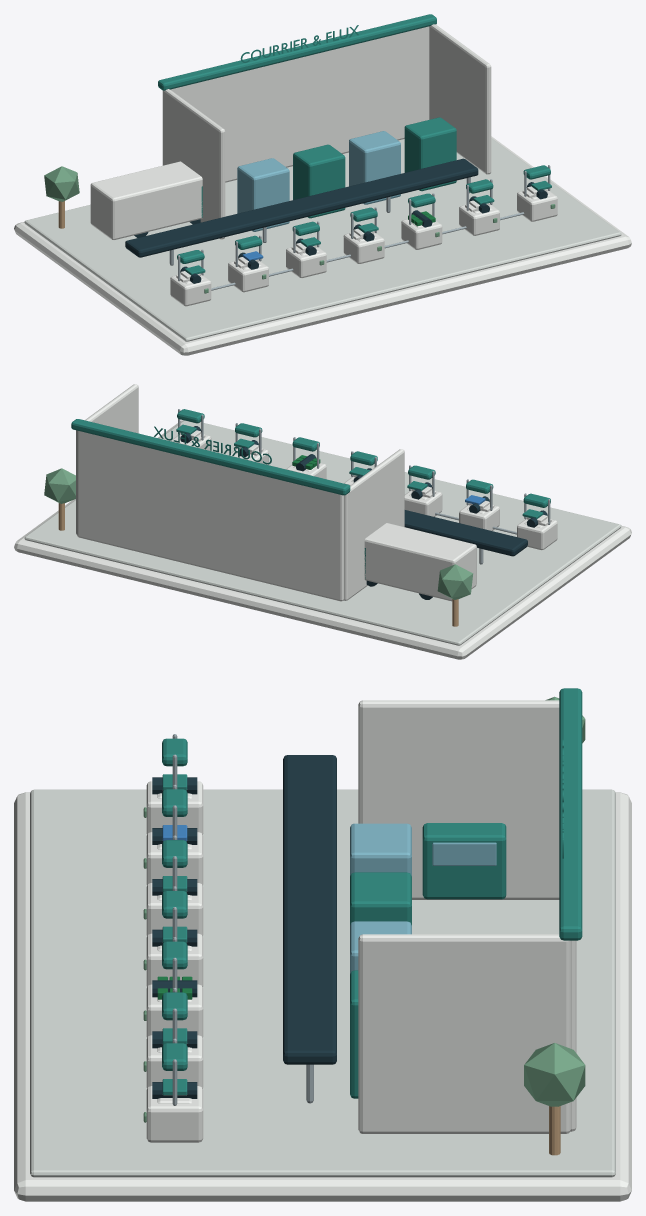
3 views of the same model, one above another, from view 1: azimuth 30°, elevation 25°; view 2: azimuth 150°, elevation 25°; view 3: azimuth 270°, elevation 25° (orthographic). The views are drawn at different scales.
Parts seen in each view (by area): view 1: Activity ground, COURRIER & FLUX back, Project island, Sorting belt, Delivery van, COURRIER & FLUX side.001, COURRIER & FLUX side, COURRIER & FLUX fascia, Sorting bins.003, Sorting bins.001, Sorting bins, Sorting bins.002 (+9 smaller); view 2: COURRIER & FLUX back, Activity ground, Project island, Delivery van, COURRIER & FLUX side, COURRIER & FLUX fascia, Sorting belt, COURRIER & FLUX side.001, Icosphere, Icosphere.001, Machine pedestal, Machine pedestal.001 (+2 smaller); view 3: Activity ground, COURRIER & FLUX side.001, COURRIER & FLUX side, Project island, Sorting belt, COURRIER & FLUX fascia, Van cab, Icosphere.001, Sorting bins, Sorting bins.001, Machine pedestal.006, Van windscreen (+9 smaller).
Part boxes in pixels (x1,y1,x2,y2): Activity ground: [24, 138, 621, 341]; COURRIER & FLUX back: [170, 26, 429, 182]; Project island: [14, 136, 631, 355]; Sorting belt: [125, 158, 478, 257]; Delivery van: [90, 161, 202, 240]; COURRIER & FLUX side.001: [429, 24, 491, 174]; COURRIER & FLUX side: [162, 89, 225, 239]; COURRIER & FLUX fascia: [158, 14, 436, 90]; Sorting bins.003: [404, 117, 456, 191]; Sorting bins.001: [293, 144, 345, 218]; Sorting bins: [237, 158, 289, 231]; Sorting bins.002: [349, 131, 400, 204]; COURRIER & FLUX back: [77, 430, 343, 601]; Activity ground: [24, 420, 621, 645]; Project island: [14, 420, 631, 659]; Delivery van: [364, 523, 476, 601]; COURRIER & FLUX side: [343, 449, 404, 600]; COURRIER & FLUX fascia: [71, 419, 350, 495]; Sorting belt: [404, 510, 527, 556]; COURRIER & FLUX side.001: [76, 384, 138, 534]; Icosphere: [437, 564, 473, 599]; Icosphere.001: [44, 468, 75, 503]; Machine pedestal: [517, 518, 557, 550]; Machine pedestal.001: [459, 504, 499, 530]; Activity ground: [30, 789, 615, 1177]; COURRIER & FLUX side.001: [358, 934, 570, 1133]; COURRIER & FLUX side: [358, 700, 559, 899]; Project island: [14, 792, 631, 1201]; Sorting belt: [283, 755, 336, 1064]; COURRIER & FLUX fascia: [559, 688, 582, 940]; Van cab: [422, 823, 506, 899]; Icosphere.001: [524, 1043, 585, 1106]; Sorting bins: [350, 823, 411, 876]; Sorting bins.001: [350, 872, 411, 925]; Machine pedestal.006: [146, 1086, 203, 1142]; Van windscreen: [432, 842, 496, 865].
Bounding box in the file's own units: 7.3 × 2.21 × 4.8.
